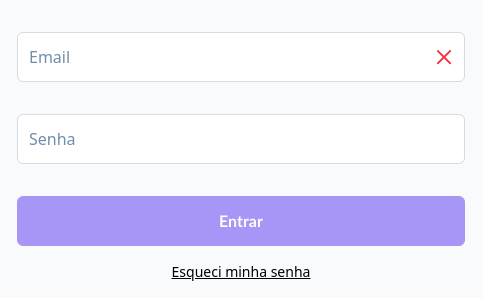
Test: Login Component › Validation › enables submit button when form is valid
In the field labelled "Email": (241, 57) [17,32,465,82], type "john@example.com"
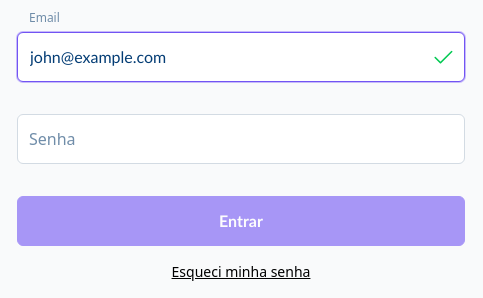
In the password field labelled "Senha": (241, 139) [17,114,465,164], type "password123"
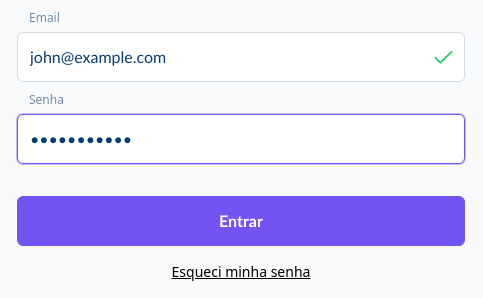
expect the button "Entrar" is enabled: met, box [17,196,465,246]
